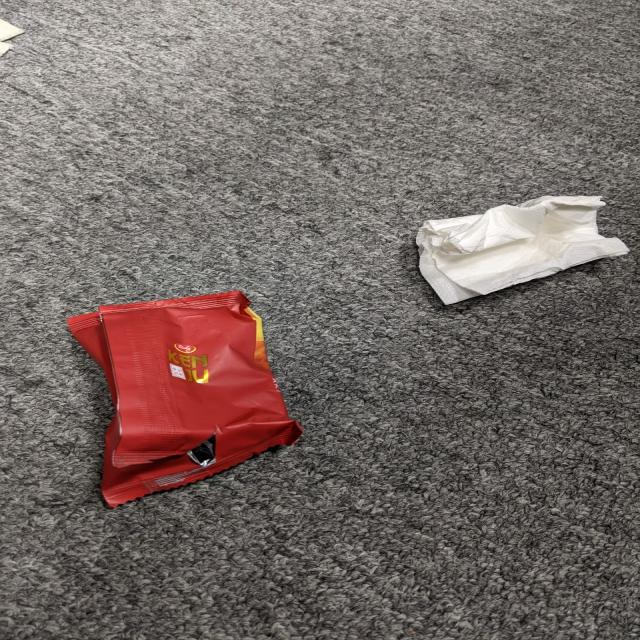napkin: (416, 195, 632, 306)
snack package: (66, 290, 304, 509)
